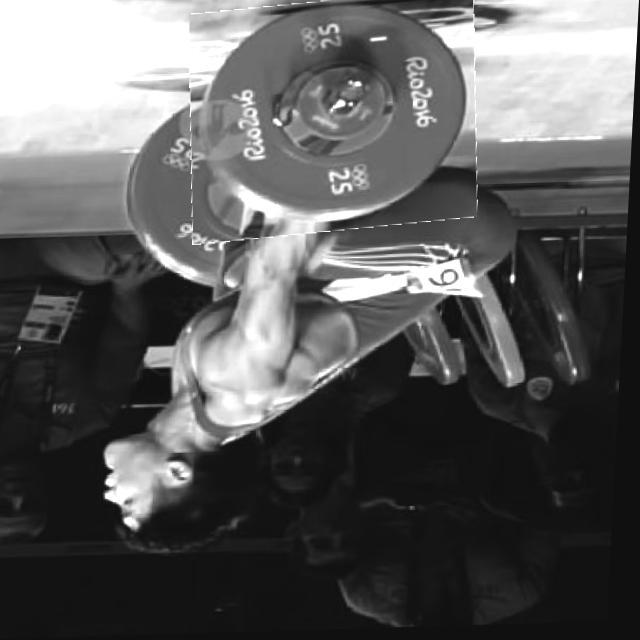barbell: (184, 1, 486, 242)
